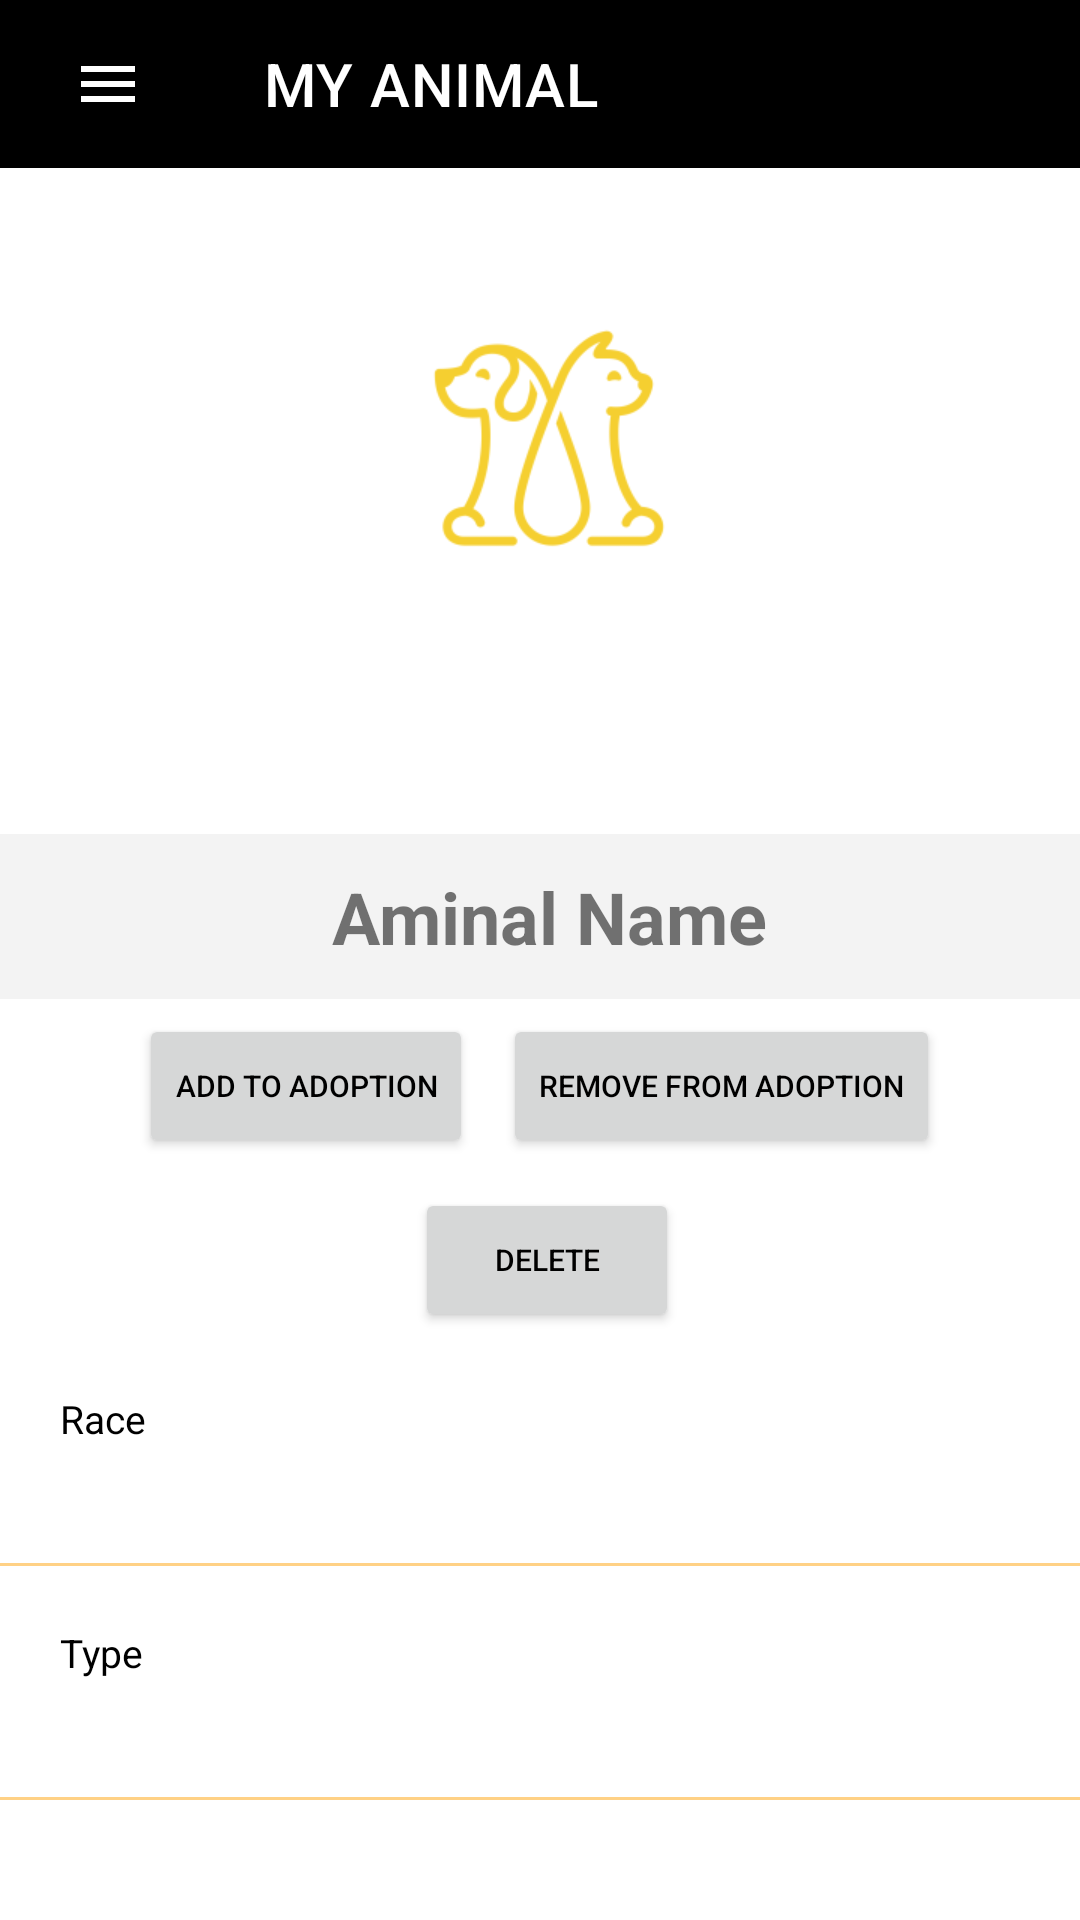

Icons on this 1080 x 1920 Android screen, each with its box as (x1, y1, x2, y2):
menu: (81, 66, 135, 102)
